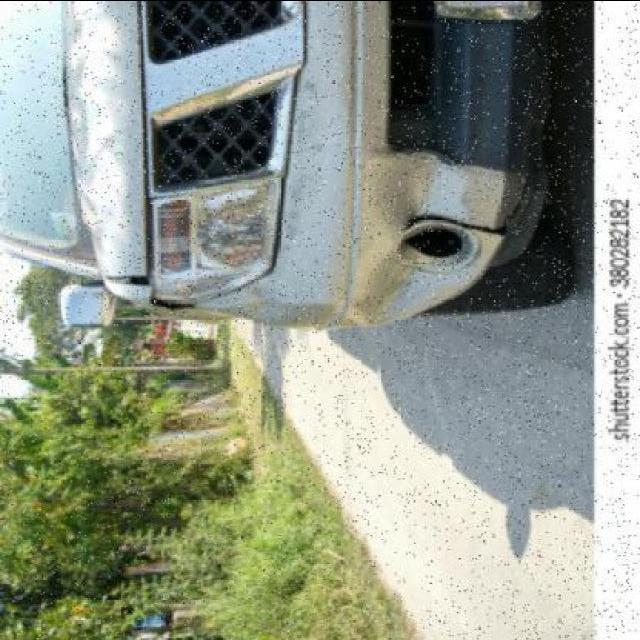front-bumper-dent: (340, 1, 539, 329)
